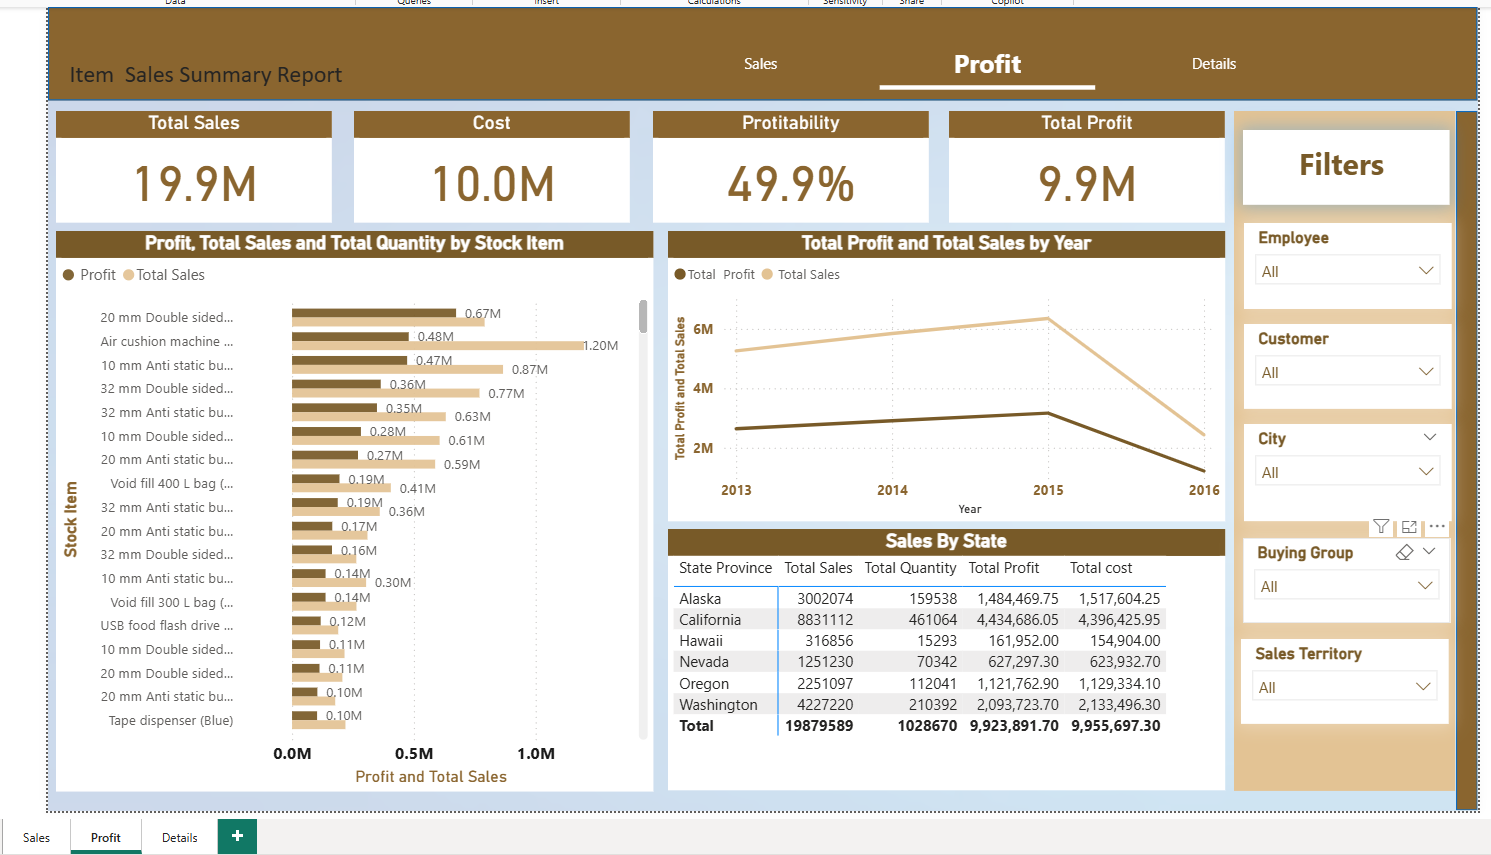

This screenshot's page, from the dashboard's own definition file:
{"tool":"powerbi","page":{"name":"Profit ","canvas":[1280,720],"ordinal":1},"visuals":[{"type":"shape","box":[0,0,1280,83.6],"z":0},{"type":"shape","box":[1260.5,93.4,19.5,626.4],"z":1000},{"type":"shape","box":[1062.1,93.4,198.4,608.9],"z":2000},{"type":"textbox","box":[0,41.8,287.9,41.8],"z":3000},{"type":"card","title":"Total Sales ","fields":{"Values":["Sum(FactSale.Total Excluding Tax)"]},"box":[6.8,93.4,247.1,100.2],"z":4000},{"type":"card","title":"Cost","fields":{"Values":["Sum(FactSale.cost)"]},"box":[274.3,93.4,247.1,100.2],"z":5000},{"type":"card","title":"Total  Profit ","fields":{"Values":["Sum(FactSale.Profit)"]},"box":[807.3,93.4,247.1,100.2],"z":6000},{"type":"card","title":"Protitability ","fields":{"Values":["DimCustomer.profitability"]},"box":[541.8,93.4,247.1,100.2],"z":7000},{"type":"textbox","box":[1069.9,109.9,184.8,67.1],"z":8000},{"type":"lineChart","fields":{"Category":["DimData.Date.Variation.Date Hierarchy.Year","DimData.Date.Variation.Date Hierarchy.Quarter","DimData.Date.Variation.Date Hierarchy.Month","DimData.Date.Variation.Date Hierarchy.Day"],"Y":["Sum(FactSale.Profit)","Sum(FactSale.Total Excluding Tax)"]},"box":[555.4,200.4,499,259.7],"z":9000},{"type":"clusteredBarChart","fields":{"Category":["DimStockltem.Stock Item"],"Y":["Sum(FactSale.Profit)","Sum(FactSale.Total Excluding Tax)"]},"box":[6.8,200.4,535,501.9],"z":10000},{"type":"pivotTable","title":"Sales By State ","fields":{"Values":["Sum(FactSale.Total Excluding Tax)","Sum(FactSale.Quantity)","Sum(FactSale.Profit)","Sum(FactSale.cost)"],"Rows":["Dimcity.State Province"]},"box":[555.4,467.8,499,234.4],"z":11000},{"type":"slicer","fields":{"Values":["DimEmployee.Employee"]},"box":[1070.9,193.6,185.8,76.8],"z":12000},{"type":"slicer","fields":{"Values":["DimCustomer.Customer"]},"box":[1070.9,284,185.8,75.9],"z":13000},{"type":"slicer","fields":{"Values":["Dimcity.City"]},"box":[1070.9,373.5,185.8,86.6],"z":14000},{"type":"slicer","fields":{"Values":["DimCustomer.Buying Group"]},"box":[1069.9,475.6,185.8,75.9],"z":15000},{"type":"slicer","fields":{"Values":["Dimcity.Sales Territory"]},"box":[1068,566.1,185.8,75.9],"z":16000},{"type":"pageNavigator","box":[541.9,24.8,600.4,49.5],"z":17000}]}

Visuals, with their boxes on the page's 1280x720 design canvas (x1, y1, x2, y2). These are canvas units, not pixel positions in the 1491x855 screenshot, which may show the page scaled, cropped or inside an application window:
shape: x1=0, y1=0, x2=1280, y2=84
shape: x1=1260, y1=93, x2=1280, y2=720
shape: x1=1062, y1=93, x2=1260, y2=702
textbox: x1=0, y1=42, x2=288, y2=84
"Total Sales " card: x1=7, y1=93, x2=254, y2=194
"Cost" card: x1=274, y1=93, x2=521, y2=194
"Total  Profit " card: x1=807, y1=93, x2=1054, y2=194
"Protitability " card: x1=542, y1=93, x2=789, y2=194
textbox: x1=1070, y1=110, x2=1255, y2=177
lineChart - DimData.Date.Variation.Date Hierarchy.Year x DimData.Date.Variation.Date Hierarchy.Quarter: x1=555, y1=200, x2=1054, y2=460
clusteredBarChart - DimStockltem.Stock Item x Sum(FactSale.Profit): x1=7, y1=200, x2=542, y2=702
"Sales By State " pivotTable: x1=555, y1=468, x2=1054, y2=702
slicer - DimEmployee.Employee: x1=1071, y1=194, x2=1257, y2=270
slicer - DimCustomer.Customer: x1=1071, y1=284, x2=1257, y2=360
slicer - Dimcity.City: x1=1071, y1=374, x2=1257, y2=460
slicer - DimCustomer.Buying Group: x1=1070, y1=476, x2=1256, y2=552
slicer - Dimcity.Sales Territory: x1=1068, y1=566, x2=1254, y2=642
pageNavigator: x1=542, y1=25, x2=1142, y2=74
